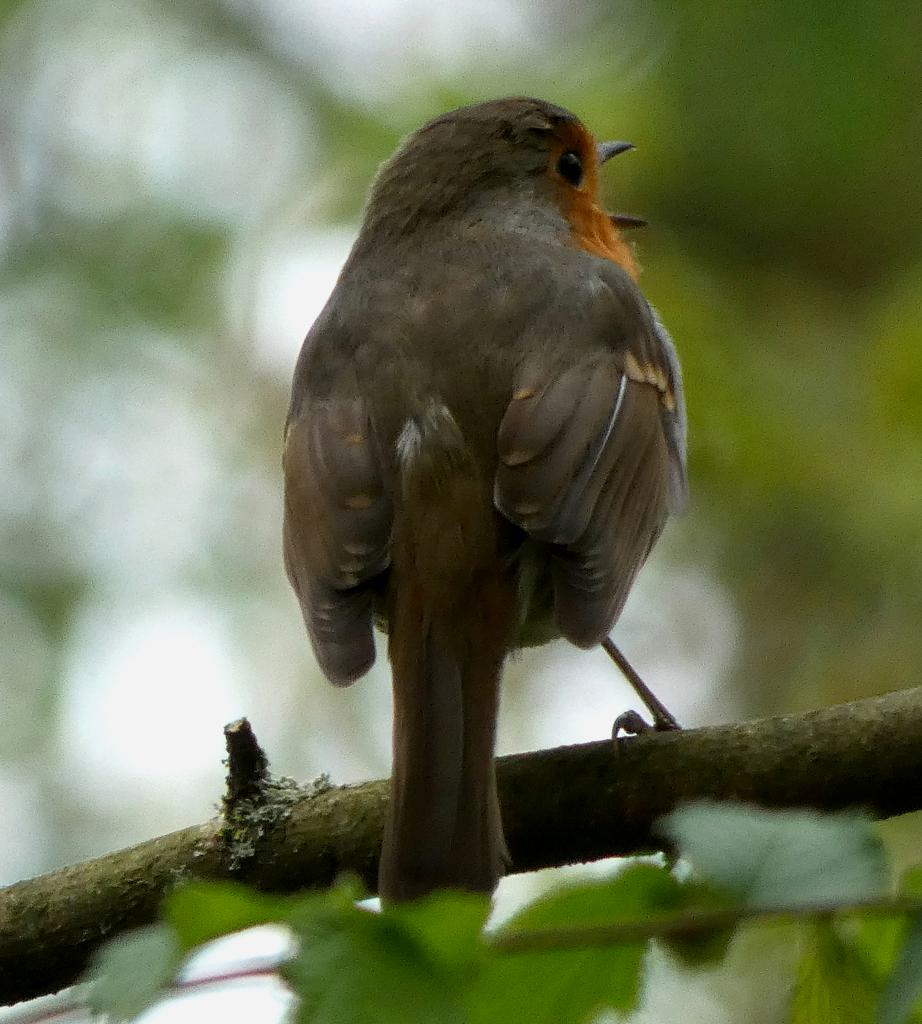ErithacusRubecula: (281, 96, 682, 912)
